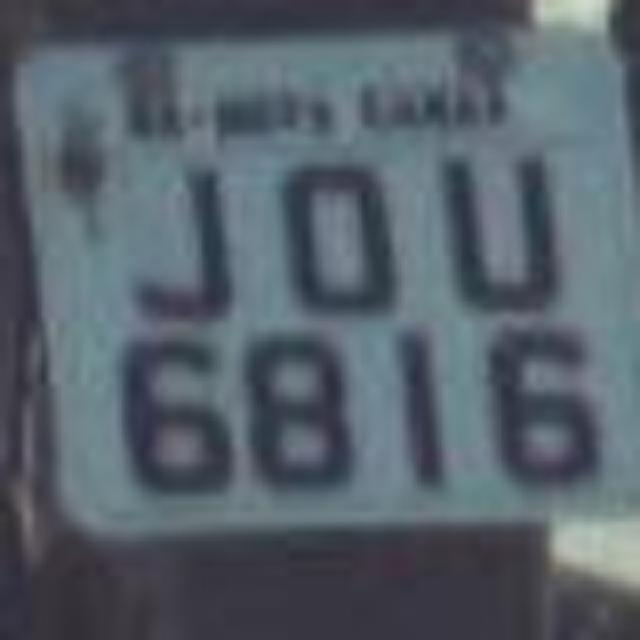1: (385, 324, 460, 484)
6: (472, 309, 612, 496), (104, 324, 236, 511)
8: (240, 316, 365, 504)
J: (116, 156, 244, 332)
O: (272, 140, 412, 325)
U: (415, 132, 580, 320)
